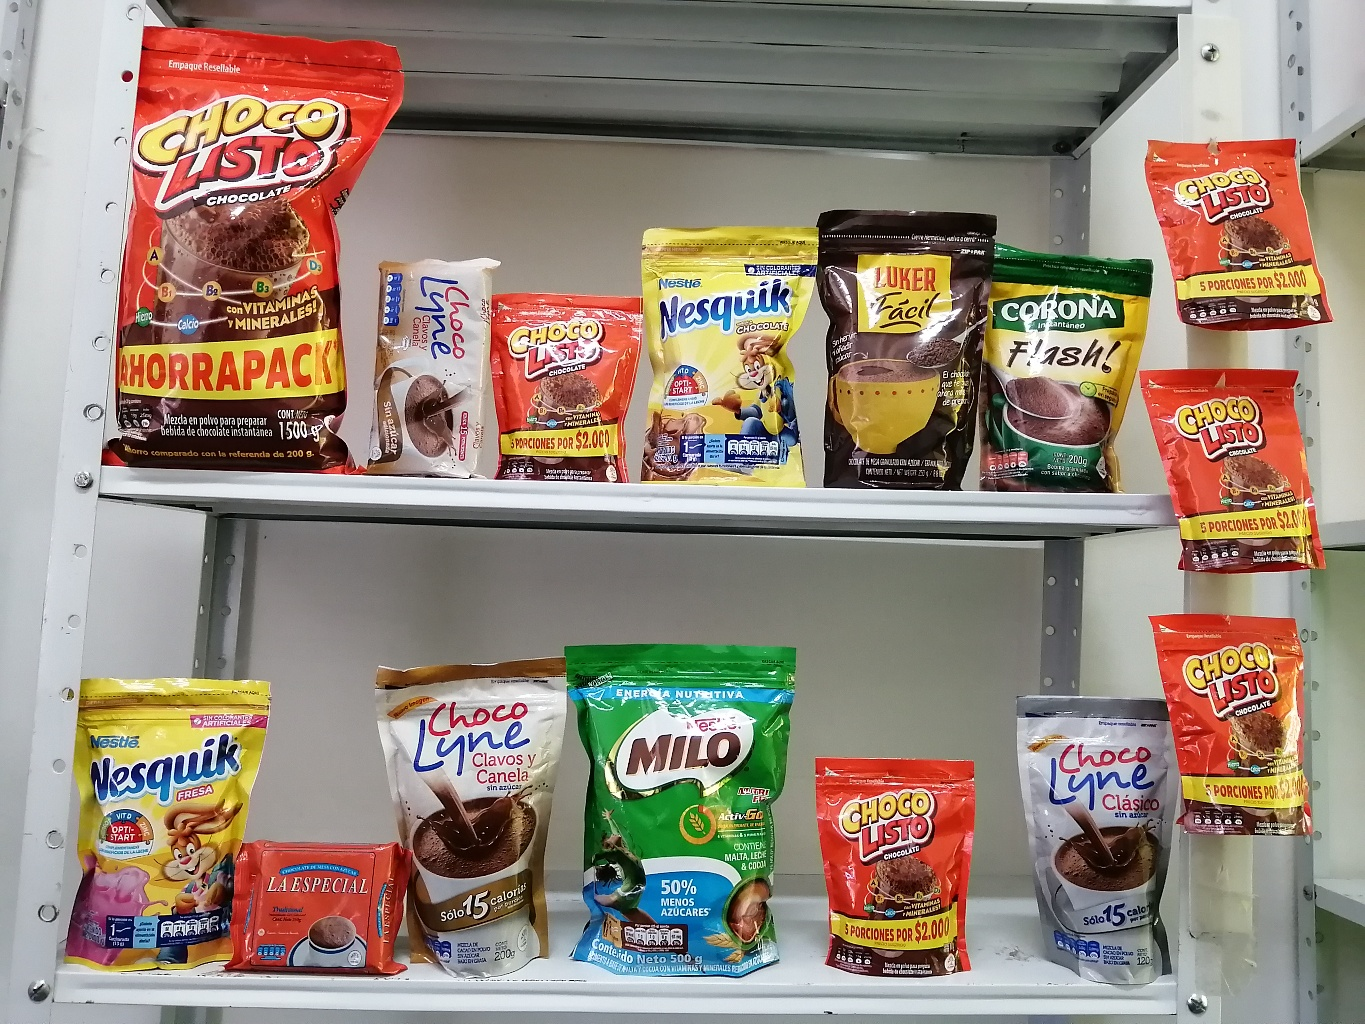COL0170103DYP1,500: (101, 17, 399, 474)
COL0170205DYP50000: (571, 634, 801, 980)
COL0170303DYP20000: (634, 217, 817, 493)
COL0170305DYP20000: (73, 672, 273, 970)
